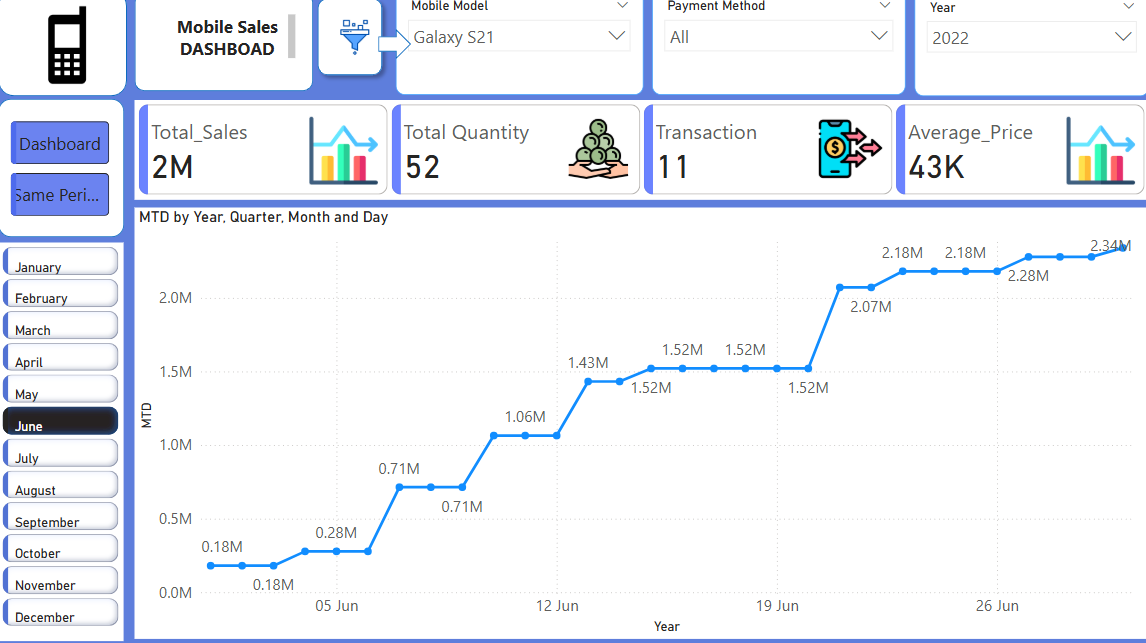

This screenshot's page, from the dashboard's own definition file:
{"tool":"powerbi","page":{"name":"MTD Report","canvas":[1280,720],"ordinal":2},"visuals":[{"type":"shape","box":[6.9,0,141.3,116.6],"z":0},{"type":"image","box":[0,2.7,164.7,115.3],"z":1000},{"type":"shape","box":[6.9,119.4,138.6,152.3],"z":2000},{"type":"cardVisual","fields":{"Data":["Mobile_Sales.Total_Sales","Mobile_Sales.Total Quantity","Mobile_Sales.Transaction","Mobile_Sales.Average_Price"]},"box":[156.4,120.8,1114.2,109.8],"z":3000},{"type":"slicer","fields":{"Values":["Mobile_Sales.Mobile Model"]},"box":[443.2,0,271.7,115.3],"z":4000},{"type":"slicer","fields":{"Values":["Mobile_Sales.Payment Method"]},"box":[724.5,0,278.6,115.3],"z":5000},{"type":"slicer","fields":{"Values":["Custom_Calender.Date.Variation.Date Hierarchy.Year"]},"box":[1012.7,1.4,258,115.3],"z":6000},{"type":"shape","box":[348.5,0,89.2,102.9],"z":7000},{"type":"image","box":[238.8,27.5,318.8,48.8],"z":8000},{"type":"shape","box":[423.8,42.5,36.2,33.8],"z":9000},{"type":"shape","box":[156.4,2.7,196.2,108.4],"z":10000},{"type":"textbox","box":[186.2,22.5,151.2,58.8],"z":11000},{"type":"lineChart","fields":{"Y":["Mobile_Sales.MTD"],"Category":["Custom_Calender.Date.Variation.Date Hierarchy.Year","Custom_Calender.Date.Variation.Date Hierarchy.Quarter","Custom_Calender.Date.Variation.Date Hierarchy.Month","Custom_Calender.Date.Variation.Date Hierarchy.Day"]},"box":[156.4,238.8,1114.2,473.4],"z":12000},{"type":"advancedSlicerVisual","fields":{"Values":["Custom_Calender.Date.Variation.Date Hierarchy.Month"]},"box":[6.9,277.2,137.2,437.7],"z":13000},{"type":"pageNavigator","box":[20.6,144.1,108.4,105.7],"z":14000}]}

Visuals, with their boxes in screenshot pixels (x1, y1, x2, y2), scaled from the page's 1280x720 canvas onto the 1146x643 screenshot:
shape: 6, 0, 133, 104
image: 0, 2, 147, 105
shape: 6, 107, 130, 243
cardVisual - Mobile_Sales.Total_Sales x Mobile_Sales.Total Quantity: 140, 108, 1138, 206
slicer - Mobile_Sales.Mobile Model: 397, 0, 640, 103
slicer - Mobile_Sales.Payment Method: 649, 0, 898, 103
slicer - Custom_Calender.Date.Variation.Date Hierarchy.Year: 907, 1, 1138, 104
shape: 312, 0, 392, 92
image: 214, 25, 499, 68
shape: 379, 38, 412, 68
shape: 140, 2, 316, 99
textbox: 167, 20, 302, 73
lineChart - Mobile_Sales.MTD x Custom_Calender.Date.Variation.Date Hierarchy.Year: 140, 213, 1138, 636
advancedSlicerVisual - Custom_Calender.Date.Variation.Date Hierarchy.Month: 6, 248, 129, 638
pageNavigator: 18, 129, 115, 223
